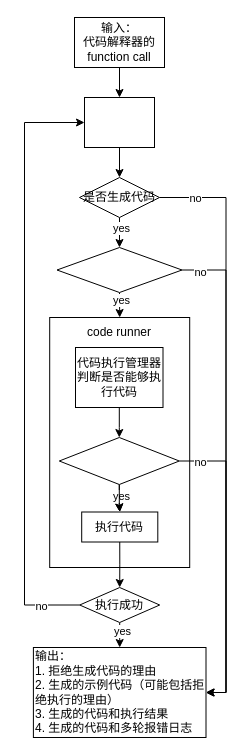
Image size: 252x755. Some labels were removed from this diagram. Each missing label, with the centre of its shape:
"can_execute=1" goes at point (118, 460).
"need_execute=1" goes at point (119, 269).
"代码解释器生成代码" goes at point (119, 122).
